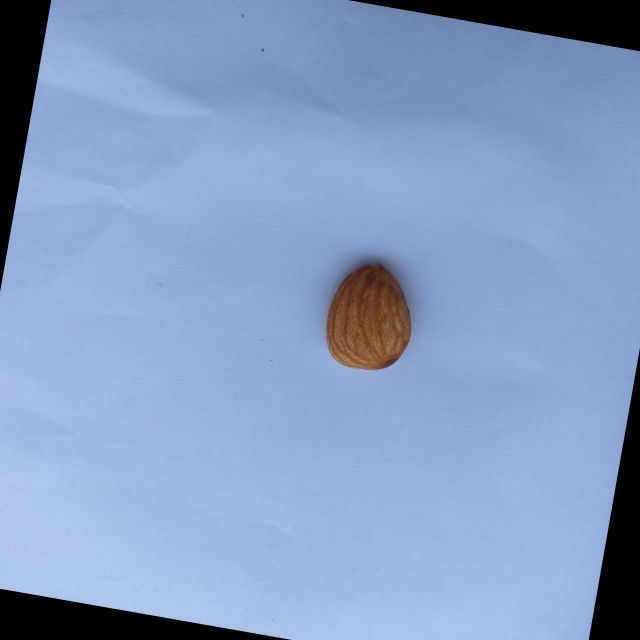grade1: (308, 247, 429, 384)
